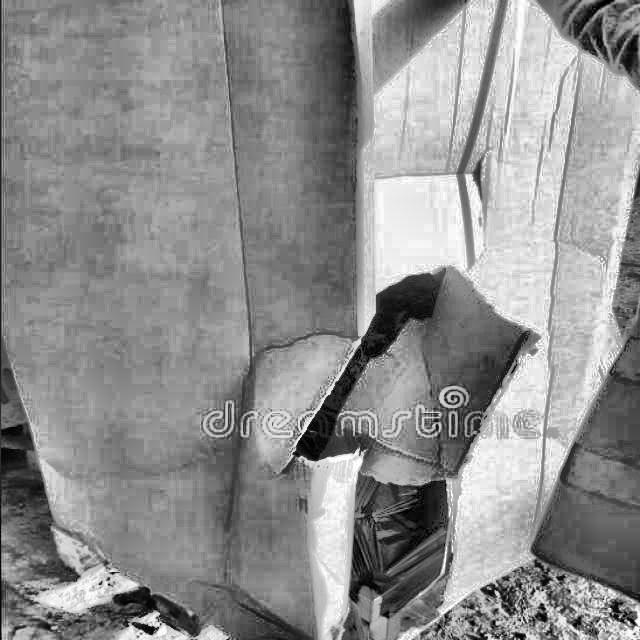box: (2, 0, 639, 639)
hole: (290, 263, 476, 639)
